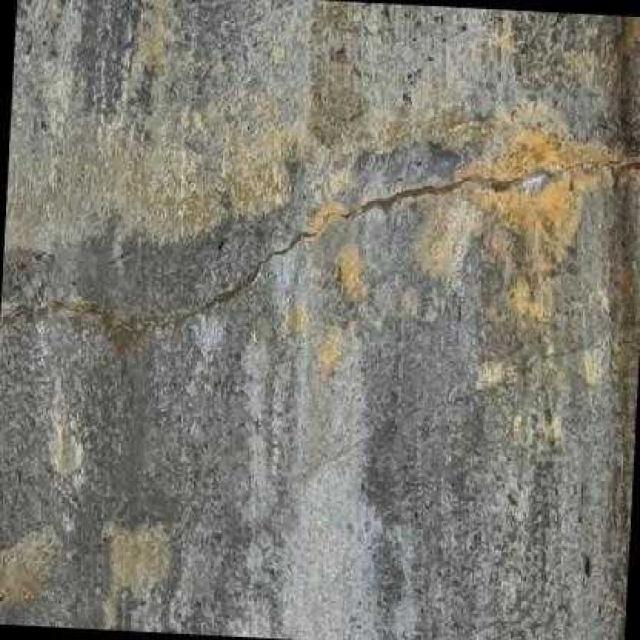D00: (0, 147, 640, 338)
